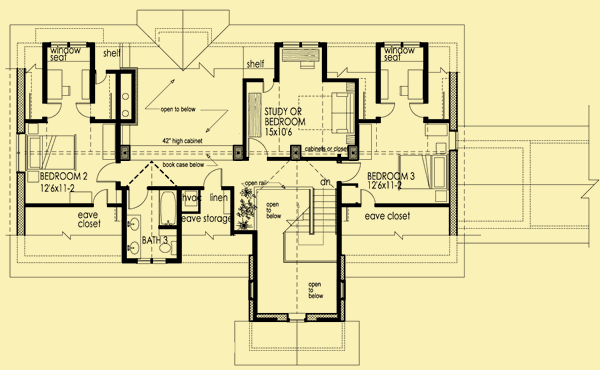bed: (25, 132, 82, 173), (397, 151, 449, 190)
door: (124, 184, 149, 211), (339, 159, 364, 184), (95, 160, 119, 186), (247, 136, 270, 161), (201, 166, 223, 191), (43, 99, 64, 121), (358, 186, 378, 209), (405, 100, 429, 119), (73, 98, 94, 119), (376, 101, 397, 121), (91, 188, 109, 211), (93, 66, 108, 85), (259, 77, 277, 92)
large sink: (158, 237, 176, 256)
large sofa: (327, 89, 357, 137)
small sink: (125, 213, 141, 260)
stairs: (281, 185, 338, 266)
tub: (159, 188, 177, 229)
windows: (15, 129, 26, 177), (383, 38, 421, 50), (51, 39, 89, 50), (136, 255, 168, 267), (280, 40, 320, 49)
